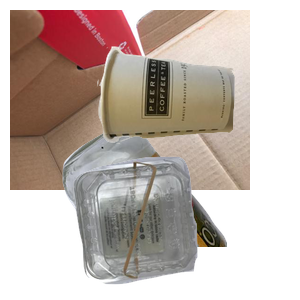cardboard: (10, 10, 250, 190)
glass: (60, 120, 300, 300)
plastic: (71, 154, 300, 300)
trash: (95, 44, 300, 180)
